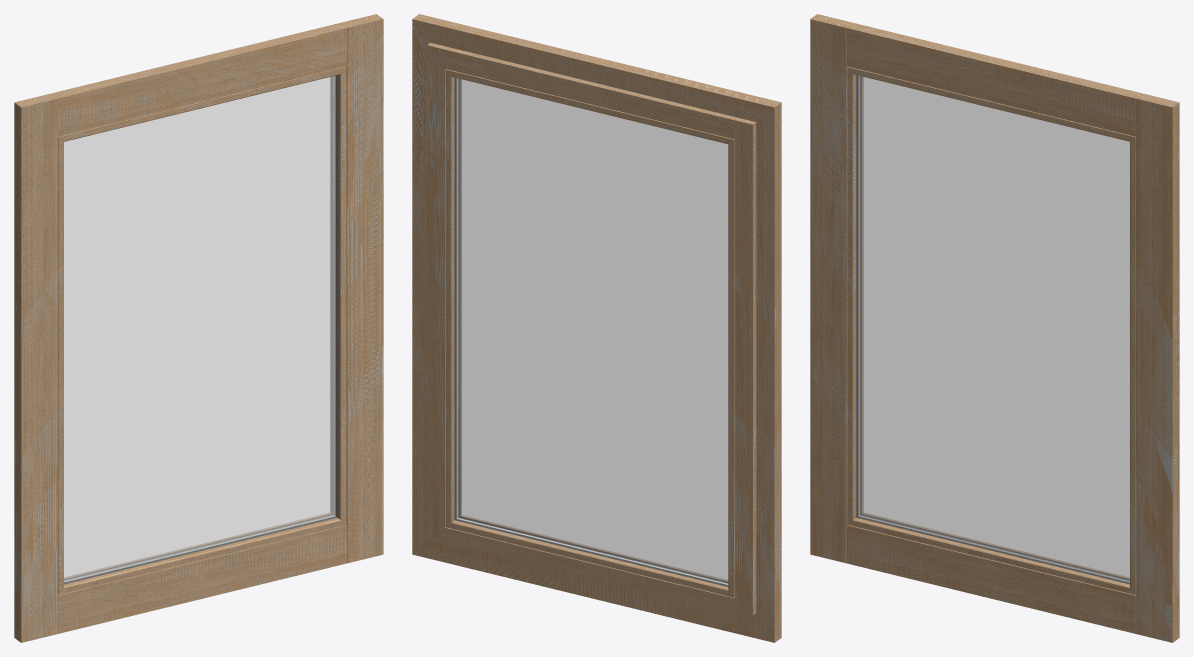
The picture shows the model from 3 angles, left to right: view 1: azimuth 30°, elevation 25°; view 2: azimuth 150°, elevation 25°; view 3: azimuth 330°, elevation 25°; orthographic projection.
Visible parts, largest first — view 1: instance_0.323, group_10.023, group_5.169, group_6.066, group_1.212, Intersection.011, group_8.021, Intersection.009, Intersection.008, group_3.172, group_2.183; view 2: instance_0.323, group_10.023, group_10.025, group_3.172, group_4.069, group_2.183, Intersection.008, group_7.034, Intersection.009, Intersection.011, group_5.169, group_6.066; view 3: instance_0.323, group_10.023, group_1.212, group_6.066, group_5.169, Intersection.011, group_8.021, Intersection.009, Intersection.008, group_4.069, group_2.183.
Boxes of the visible parts, x1=… form: instance_0.323: x1=64, y1=76, x2=335, y2=582; group_10.023: x1=14, y1=14, x2=383, y2=642; group_5.169: x1=337, y1=67, x2=346, y2=524; group_6.066: x1=59, y1=518, x2=346, y2=594; group_1.212: x1=58, y1=137, x2=63, y2=594; Intersection.011: x1=64, y1=75, x2=337, y2=584; group_8.021: x1=58, y1=66, x2=346, y2=141; Intersection.009: x1=64, y1=76, x2=335, y2=582; Intersection.008: x1=64, y1=76, x2=333, y2=579; group_3.172: x1=330, y1=76, x2=333, y2=512; group_2.183: x1=64, y1=513, x2=332, y2=580; instance_0.323: x1=457, y1=78, x2=728, y2=583; group_10.023: x1=412, y1=14, x2=781, y2=642; group_10.025: x1=427, y1=42, x2=756, y2=615; group_3.172: x1=446, y1=70, x2=454, y2=526; group_4.069: x1=728, y1=140, x2=734, y2=597; group_2.183: x1=446, y1=520, x2=733, y2=597; Intersection.008: x1=454, y1=78, x2=728, y2=586; group_7.034: x1=446, y1=69, x2=734, y2=144; Intersection.009: x1=456, y1=78, x2=728, y2=584; Intersection.011: x1=458, y1=79, x2=727, y2=582; group_5.169: x1=458, y1=79, x2=461, y2=516; group_6.066: x1=459, y1=515, x2=727, y2=583; instance_0.323: x1=858, y1=76, x2=1129, y2=582; group_10.023: x1=810, y1=14, x2=1179, y2=642; group_1.212: x1=847, y1=67, x2=856, y2=524; group_6.066: x1=847, y1=518, x2=1134, y2=594; group_5.169: x1=1130, y1=137, x2=1135, y2=594; Intersection.011: x1=856, y1=75, x2=1129, y2=584; group_8.021: x1=847, y1=66, x2=1135, y2=141; Intersection.009: x1=858, y1=76, x2=1129, y2=582; Intersection.008: x1=860, y1=76, x2=1129, y2=579; group_4.069: x1=860, y1=77, x2=863, y2=512; group_2.183: x1=861, y1=513, x2=1129, y2=580.
Size of the model in its own units: 0.595 by 0.03 by 0.84.
6 materials, 1 textured.
